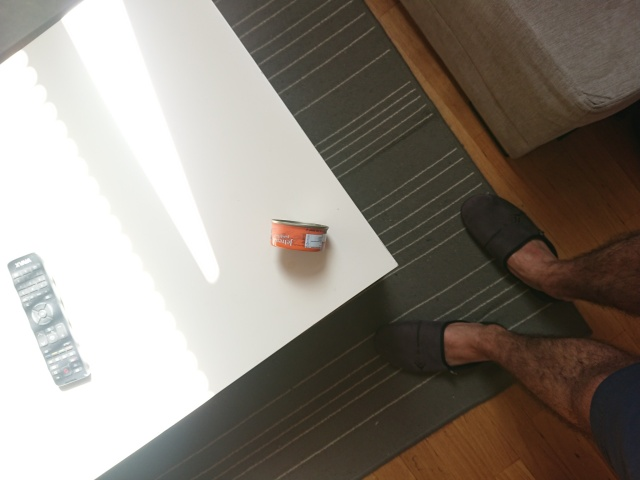Gavrilovic Pork Liver Pate 100g: (268, 217, 330, 253)
